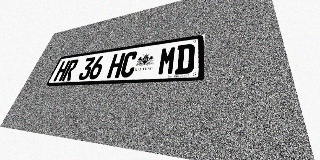3: (77, 57, 96, 80)
6: (87, 55, 106, 80)
C: (119, 51, 139, 78)
D: (174, 43, 195, 75)
H: (106, 53, 126, 78), (53, 60, 71, 82)
M: (157, 46, 177, 76)
R: (61, 59, 79, 81)
